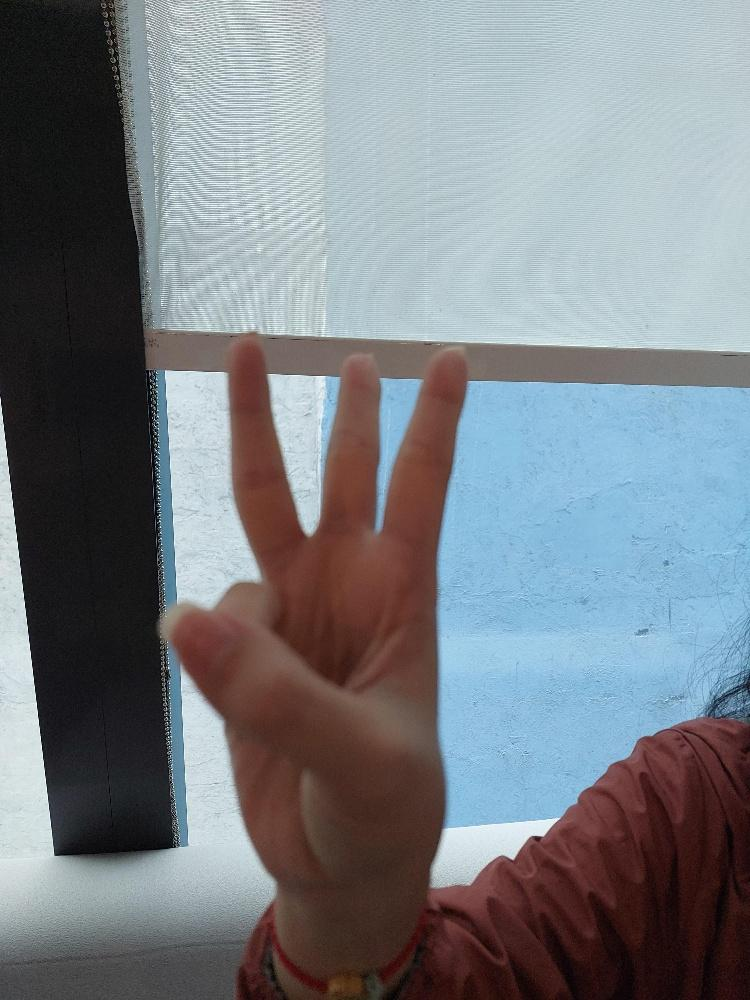w: (161, 331, 471, 886)
